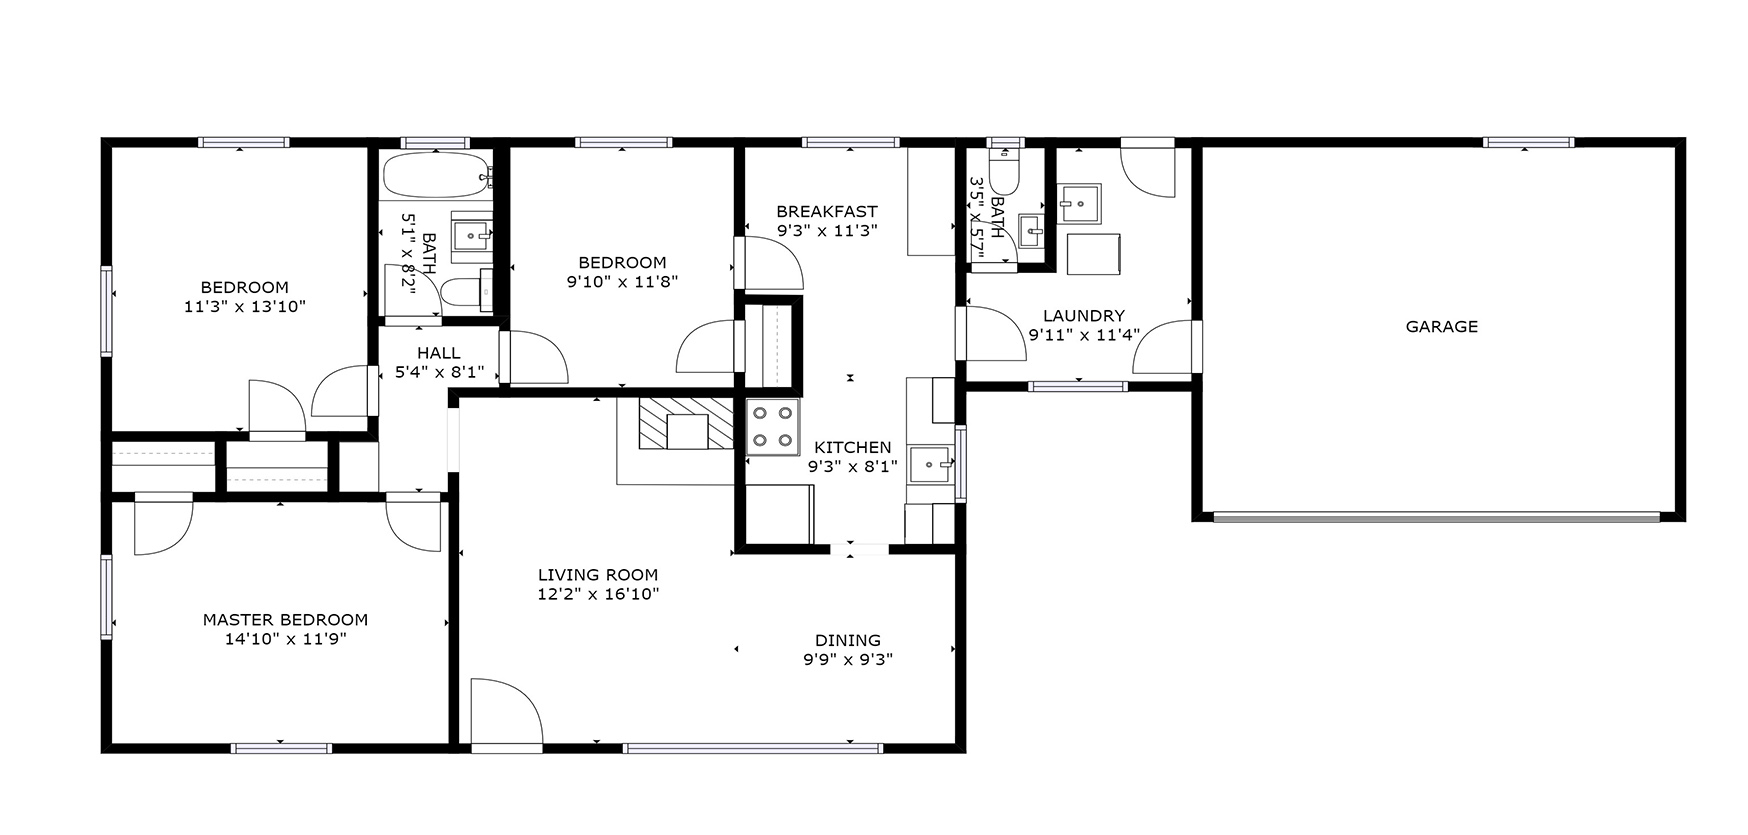door: (464, 669, 548, 739), (666, 319, 725, 378), (515, 328, 574, 387), (385, 508, 444, 567), (304, 363, 363, 423), (245, 366, 304, 425), (1128, 317, 1187, 376), (1119, 152, 1178, 211), (970, 305, 1029, 365), (132, 506, 190, 565), (752, 233, 810, 292), (382, 260, 438, 312)
room: (445, 383, 970, 756), (732, 135, 969, 559), (97, 493, 462, 760), (97, 135, 379, 445), (495, 132, 745, 400), (730, 385, 971, 562), (1043, 134, 1203, 399), (365, 133, 512, 331), (954, 133, 1060, 278), (734, 291, 803, 399)
wall: (1676, 140, 1686, 518), (367, 139, 379, 365), (955, 507, 967, 753), (450, 388, 800, 396), (1192, 138, 1472, 147), (450, 473, 458, 755), (496, 139, 508, 315), (100, 359, 111, 550), (1191, 137, 1202, 322), (734, 373, 745, 553), (1177, 139, 1437, 146), (194, 492, 383, 501), (1192, 375, 1203, 523), (956, 136, 965, 301), (100, 140, 110, 262), (1046, 138, 1055, 271), (292, 137, 398, 148), (101, 742, 231, 751), (101, 431, 249, 439), (101, 642, 111, 753), (1577, 136, 1684, 146), (734, 137, 744, 235), (792, 297, 802, 392), (543, 742, 621, 754), (735, 544, 828, 553), (1027, 138, 1117, 147), (888, 544, 967, 554), (1132, 382, 1201, 392), (734, 295, 802, 305), (955, 383, 1027, 392), (308, 431, 377, 440), (885, 745, 962, 753), (496, 139, 572, 147), (955, 365, 965, 419), (1662, 513, 1684, 521)
window: (616, 737, 888, 763), (1024, 373, 1133, 402), (91, 550, 122, 645), (797, 132, 904, 157), (225, 737, 336, 761), (96, 262, 117, 361), (192, 132, 294, 152), (1479, 134, 1579, 154), (572, 133, 677, 152), (951, 419, 971, 508), (396, 135, 475, 152), (982, 132, 1031, 153)
